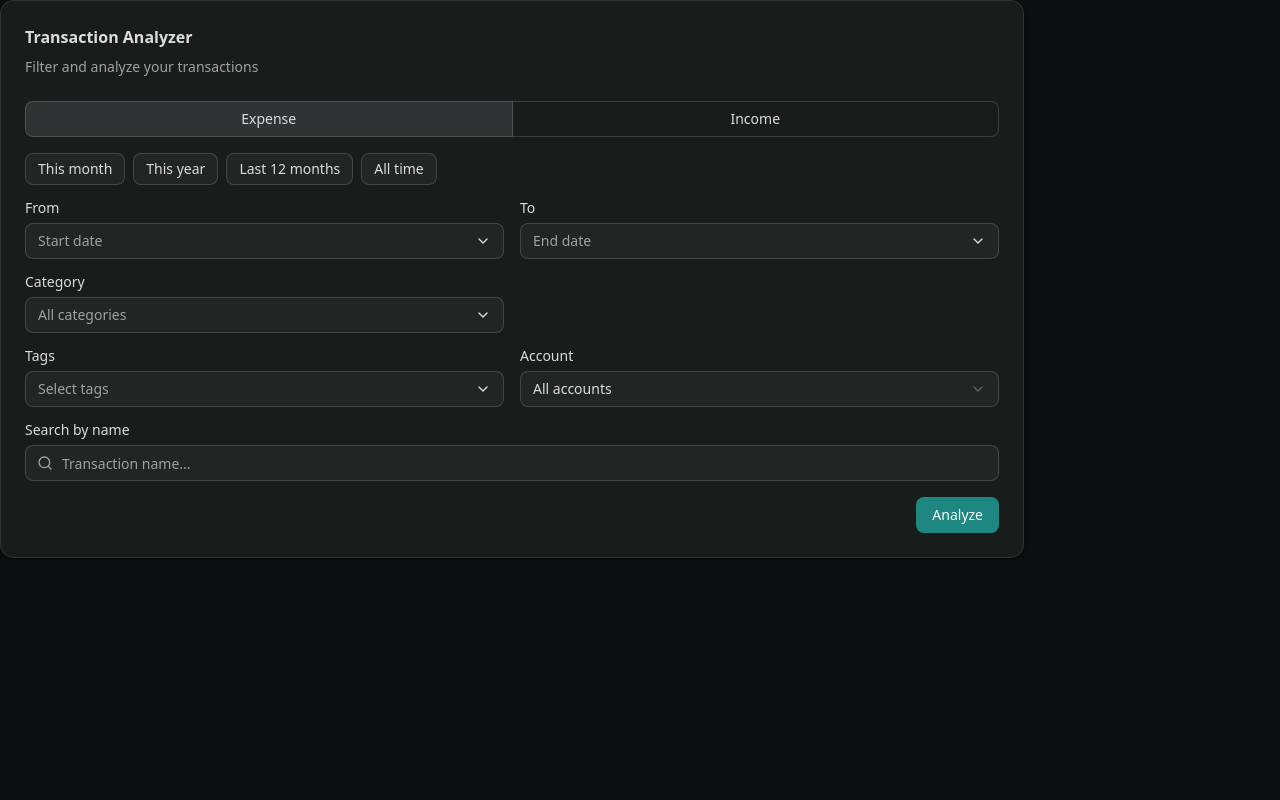
Scenario: TransactionAnalyzer › error state › renders the error message when hasAnalyzed and error present
Click the button "Analyze": click(958, 515) top-left (916, 497), bottom-right (999, 533)
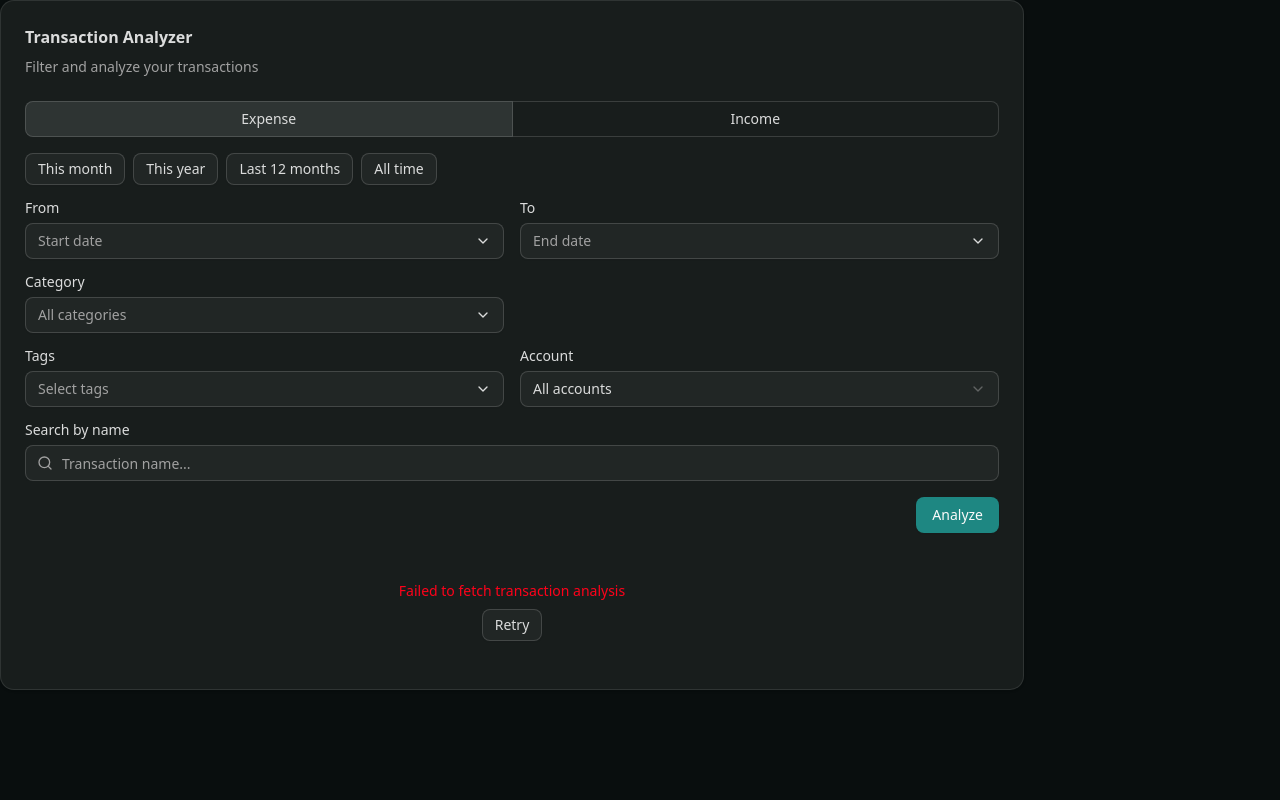
Check: the text "Failed to fetch transaction analysis" is shown, box top-left (399, 581), bottom-right (625, 600)
